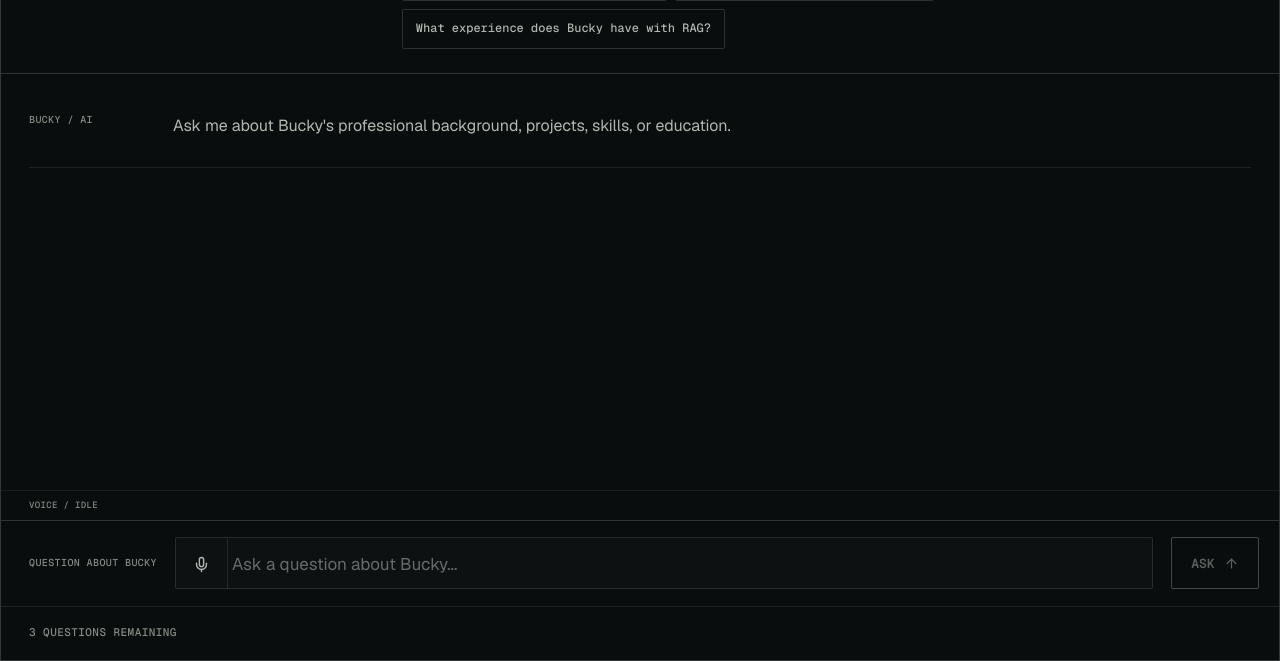
Scenario: AskBucky session usage › shows a direct assistant introduction without consuming a question
(page scrolled)
Step 1. Type "who r u" into the field labelled "Question about Bucky" → (690, 564), box [228,538,1152,590]
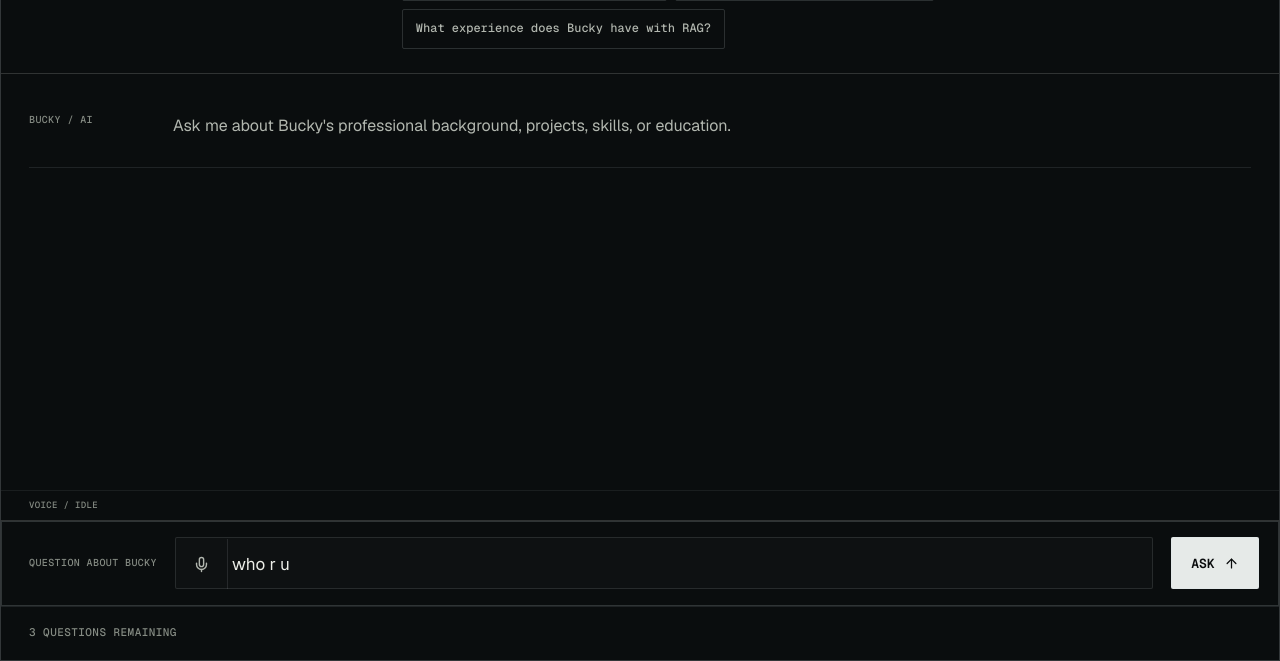
Step 2. Click the button with aria-label "Send question to Ask Bucky AI" → click(1215, 563), box [1171,537,1259,589]
(page scrolled)
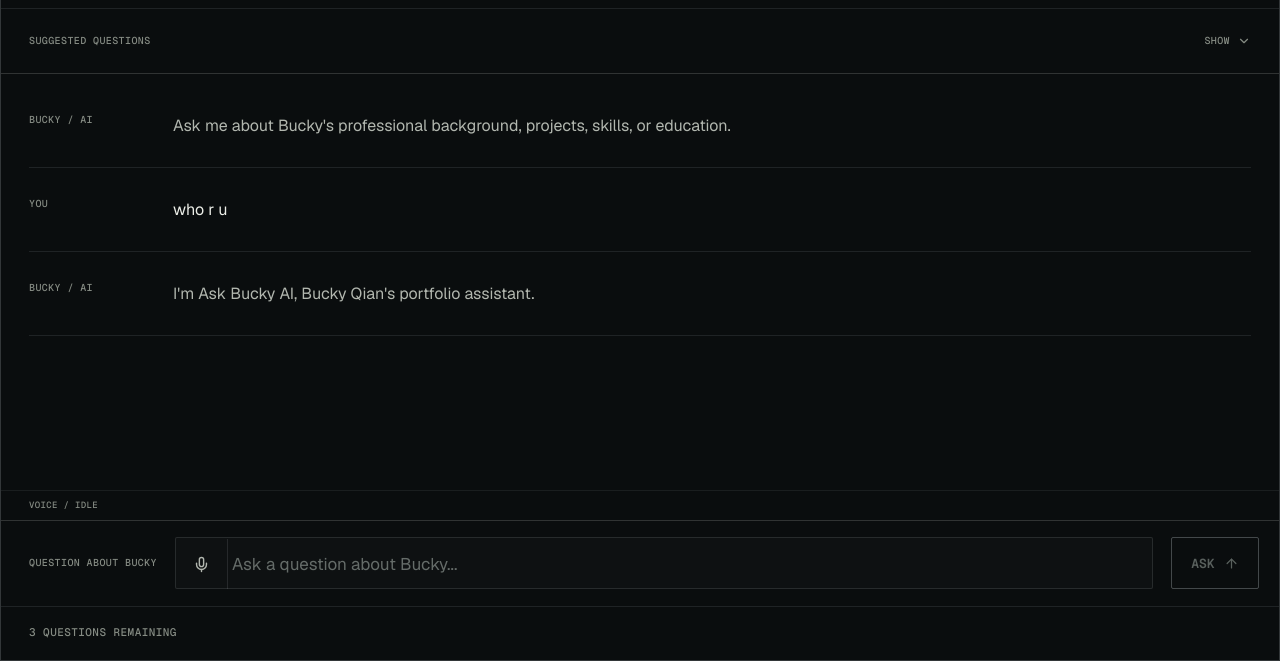
Expected: the text "3 questions remaining" is shown, [29,625,177,641]
Result: the text "I'm Ask Bucky AI, Bucky Qian's portfolio assistant." is shown at [173,283,534,304]
